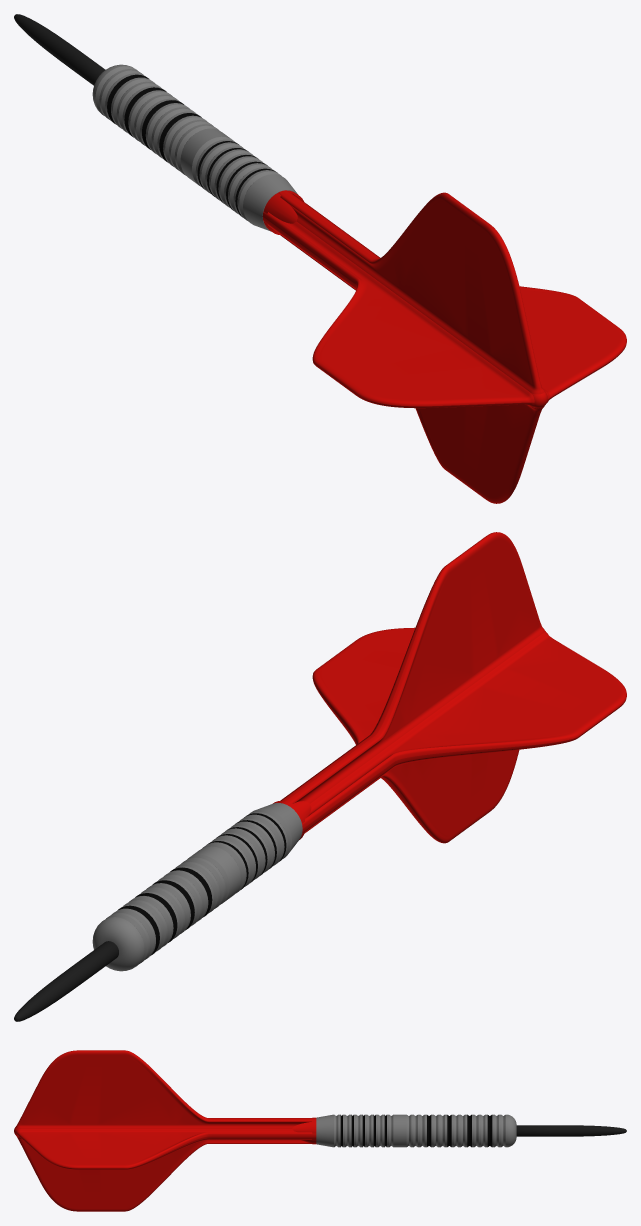
Rendered from dart1.obj.
3 views of the same model, one above another, from view 1: azimuth 30°, elevation 25°; view 2: azimuth 150°, elevation 25°; view 3: azimuth 270°, elevation 25° (orthographic). The views are drawn at different scales.
Parts seen in each view (by area): view 1: Shaft-Flight_oben+unten, Shaft-Flight_links+rechts, Cylinder_barrel, Cylinder_spitze, Übergangselement_Shaft; view 2: Shaft-Flight_oben+unten, Shaft-Flight_links+rechts, Cylinder_barrel, Cylinder_spitze; view 3: Shaft-Flight_oben+unten, Shaft-Flight_links+rechts, Cylinder_barrel, Cylinder_spitze, Übergangselement_Shaft.
Part boxes in pixels (bbox=[...]): Shaft-Flight_oben+unten: bbox=[278, 190, 544, 503]; Shaft-Flight_links+rechts: bbox=[262, 211, 626, 408]; Cylinder_barrel: bbox=[92, 64, 298, 231]; Cylinder_spitze: bbox=[14, 14, 105, 85]; Übergangselement_Shaft: bbox=[264, 190, 547, 408]; Shaft-Flight_oben+unten: bbox=[279, 532, 544, 843]; Shaft-Flight_links+rechts: bbox=[302, 627, 626, 832]; Cylinder_barrel: bbox=[92, 803, 302, 971]; Cylinder_spitze: bbox=[14, 941, 118, 1021]; Shaft-Flight_oben+unten: bbox=[16, 1050, 316, 1211]; Shaft-Flight_links+rechts: bbox=[16, 1129, 316, 1169]; Cylinder_barrel: bbox=[316, 1114, 516, 1147]; Cylinder_spitze: bbox=[516, 1125, 626, 1136]; Übergangselement_Shaft: bbox=[14, 1117, 316, 1144].
Bounding box in the file's own units: 0.0403 × 0.0403 × 0.1393.
